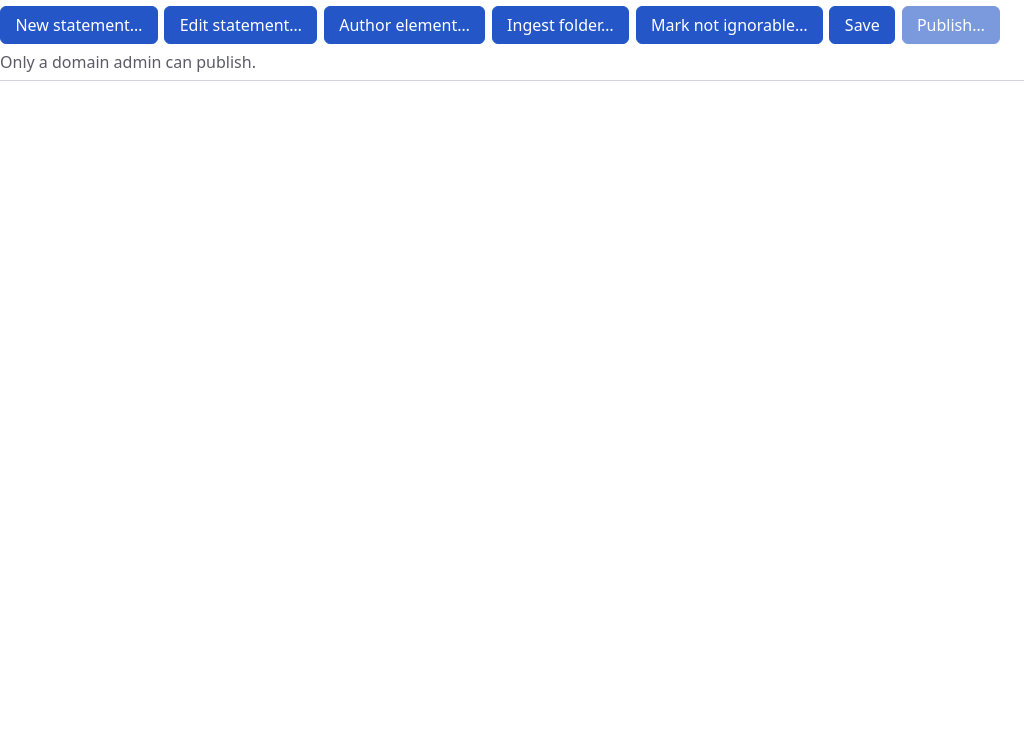
Scenario: author_dialog › picker_searches_passages
This screenshot has width=1024, height=755.
Click the button "Author element…".
click(405, 25)  # box [324,6,485,44]
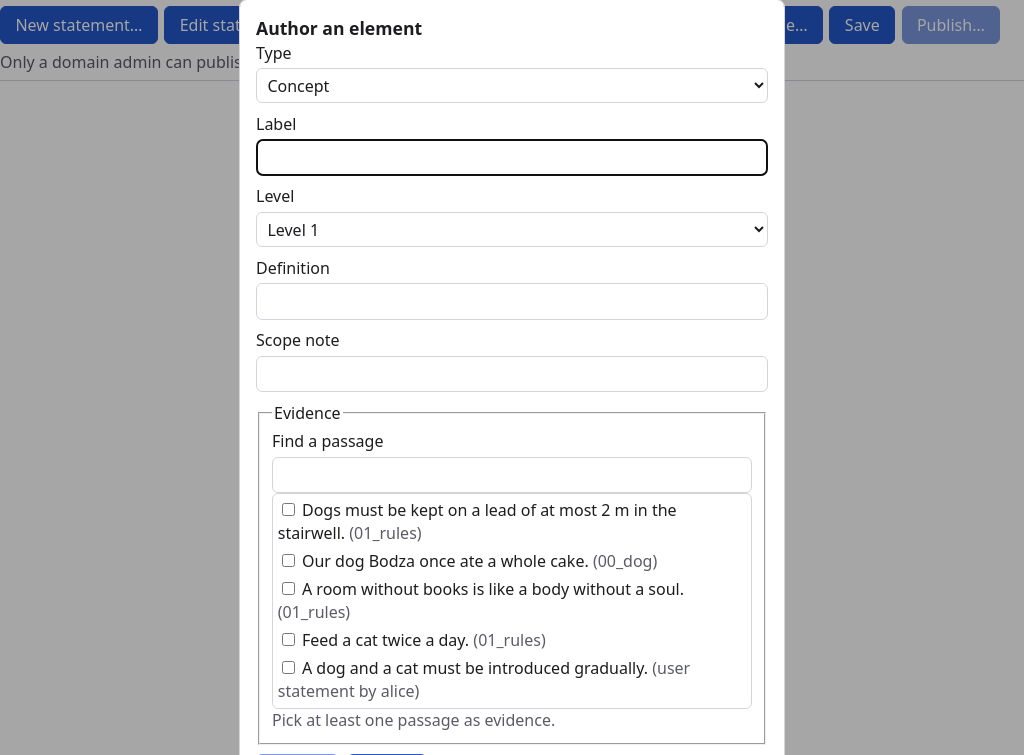
Now the search field labelled "Find a passage" is shown
Type "stairwell" into the search field labelled "Find a passage".
click(512, 475); type("stairwell")  # box [272,457,752,493]
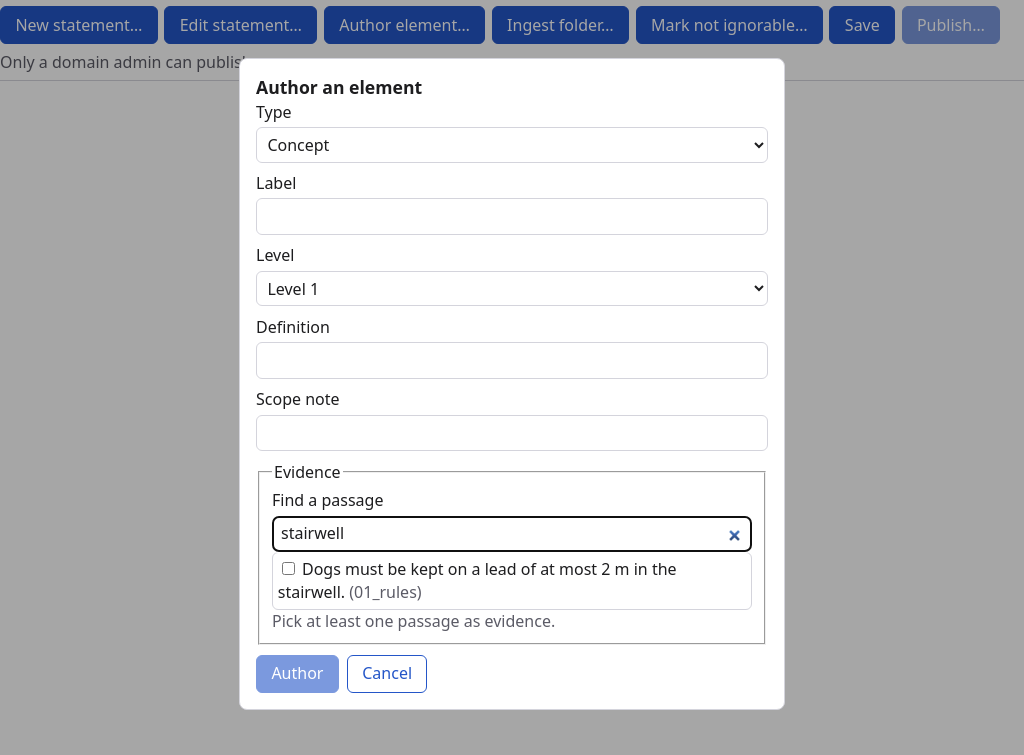
Now the 7th label shows "Dogs must be kept on a lead of at most 2 m in the stairwell.", box [278,558,677,603]
Now the number of checkboxes is 1, box [282,562,295,575]
